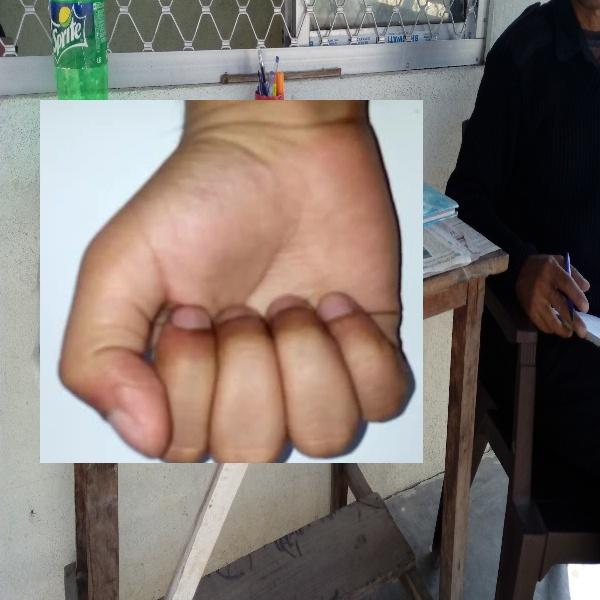F: (40, 100, 423, 463)
